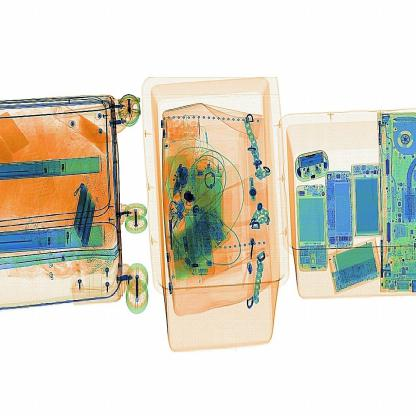knife: (178, 180, 205, 208)
